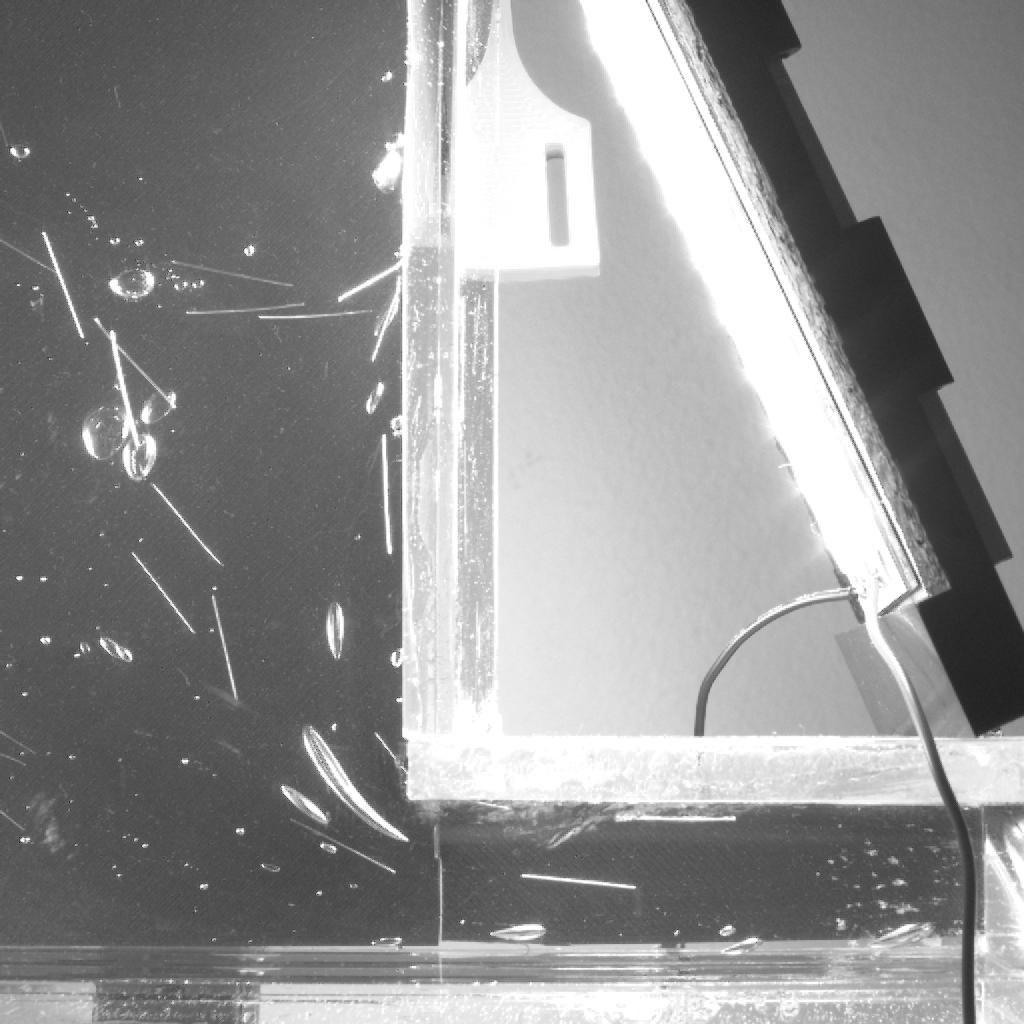Fiber: (90, 311, 179, 412), (150, 477, 230, 573), (287, 812, 400, 879), (128, 546, 202, 641), (38, 228, 91, 345), (106, 330, 142, 450), (169, 257, 295, 291), (209, 593, 245, 704), (368, 275, 406, 372), (334, 253, 403, 306), (183, 294, 309, 319), (376, 428, 398, 561), (0, 234, 61, 277), (517, 871, 641, 892), (369, 728, 412, 787), (257, 305, 377, 322), (0, 728, 38, 759), (613, 814, 743, 822), (0, 805, 24, 839), (0, 747, 29, 770)
